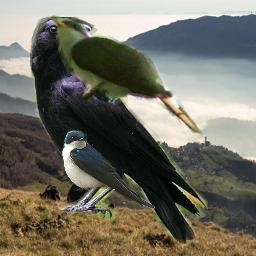Crow: (30, 17, 208, 246)
Cuckoo: (46, 15, 203, 135)
Swallow: (62, 130, 155, 209)
